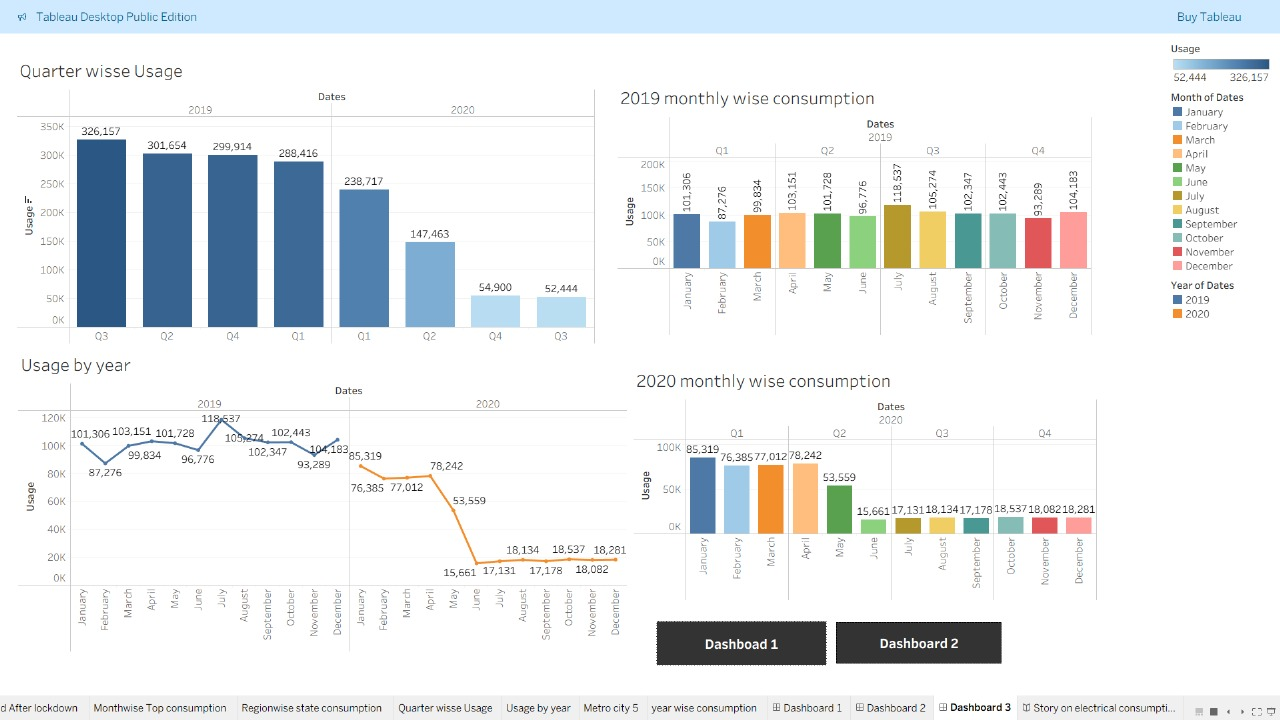

The page's visual inventory and layout, read from the dashboard file:
{"tool":"tableau","page":{"name":"Dashboard 3","canvas":[1000,1000],"units":"permille","ordinal":2},"visuals":[{"type":"legend","title":"Quarter wisse Usage","param":"[federated.08j8gbb139yky215o14ub1xfidkd].[sum:Usage:qk]","box":[863.3,10.4,130.2,84.6]},{"type":"worksheet","title":"Quarter wisse Usage","mark":"Bar","rows":["Usage"],"cols":["Dates","Dates"],"box":[13,33.9,451.6,434.9]},{"type":"worksheet","title":"2019 monthly wise consumption","mark":"Bar","rows":["Usage"],"cols":["Dates","Dates","Dates"],"box":[482.5,75.5,370.2,380.2]},{"type":"legend","title":"2019 monthly wise consumption","param":"[federated.08j8gbb139yky215o14ub1xfidkd].[mn:Dates:ok]","box":[863.3,95.1,130.2,346.4]},{"type":"legend","title":"Usage by year","param":"[federated.08j8gbb139yky215o14ub1xfidkd].[yr:Dates:ok]","box":[863.3,441.4,130.2,85.9]},{"type":"worksheet","title":"Usage by year","mark":"Automatic","rows":["Usage"],"cols":["Dates","Dates"],"box":[13.8,477.9,476,455.7]},{"type":"worksheet","title":"2020 monthly wise consumption ","mark":"Bar","rows":["Usage"],"cols":["Dates","Dates","Dates"],"box":[494.7,502.6,362.1,354.2]},{"type":"dashboard-object","box":[512.6,886.7,133.4,67.7]},{"type":"dashboard-object","box":[653.4,889.3,129.4,62.5]}]}

Visuals, with their boxes on the dashboard's canvas, which has no fixed pixel size, in thousandths of its width and height (x1, y1, x2, y2). These are canvas units, not pixel positions in the 1280x720 screenshot, which may show the page scaled, cropped or inside an application window:
"Quarter wisse Usage" legend: locate(863, 10, 994, 95)
"Quarter wisse Usage" worksheet (Bar marks): locate(13, 34, 465, 469)
"2019 monthly wise consumption" worksheet (Bar marks): locate(482, 76, 853, 456)
"2019 monthly wise consumption" legend: locate(863, 95, 994, 442)
"Usage by year" legend: locate(863, 441, 994, 527)
"Usage by year" worksheet: locate(14, 478, 490, 934)
"2020 monthly wise consumption " worksheet (Bar marks): locate(495, 503, 857, 857)
dashboard-object: locate(513, 887, 646, 954)
dashboard-object: locate(653, 889, 783, 952)
